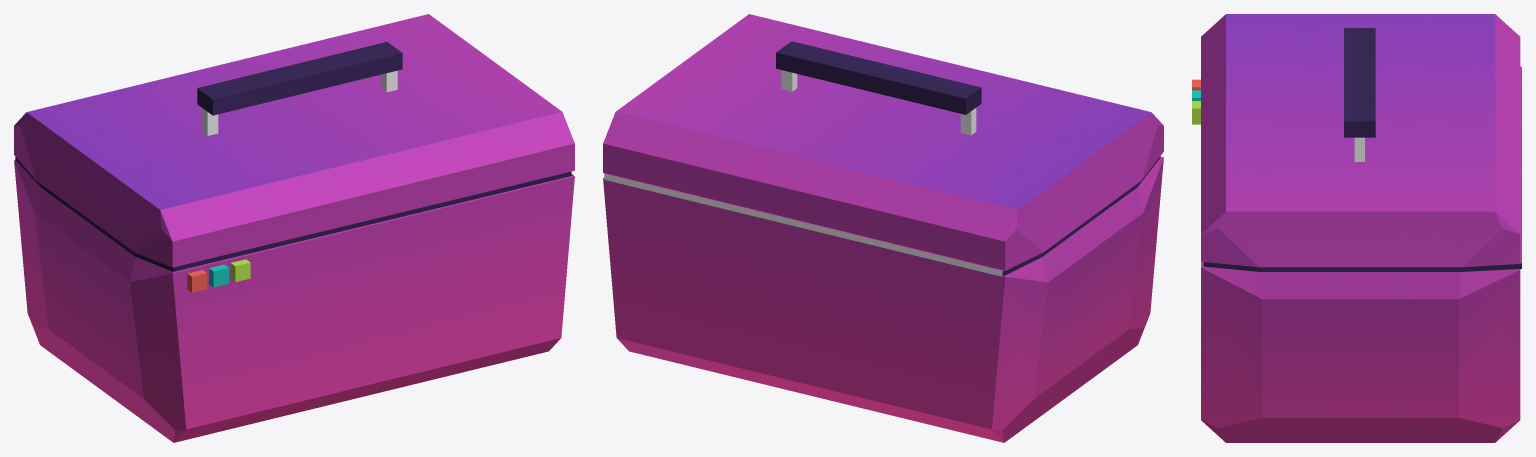
File: SM_BagSmall.fbx
3 renders of one model, left to right at view 1: azimuth 30°, elevation 25°; view 2: azimuth 150°, elevation 25°; view 3: azimuth 270°, elevation 25°, orthographic.
Parts seen in each view (by area): view 1: BagSmall, Handle.003; view 2: BagSmall, Handle.003; view 3: BagSmall, Handle.003.
Boxes of the visible parts, x1,y1,x2,y2 form: BagSmall: [14, 14, 574, 442]; Handle.003: [197, 42, 402, 135]; BagSmall: [603, 14, 1163, 442]; Handle.003: [776, 41, 981, 135]; BagSmall: [1201, 14, 1521, 442]; Handle.003: [1344, 28, 1375, 161].
Size of the model in its own units: 39.04 by 58.41 by 36.38.
